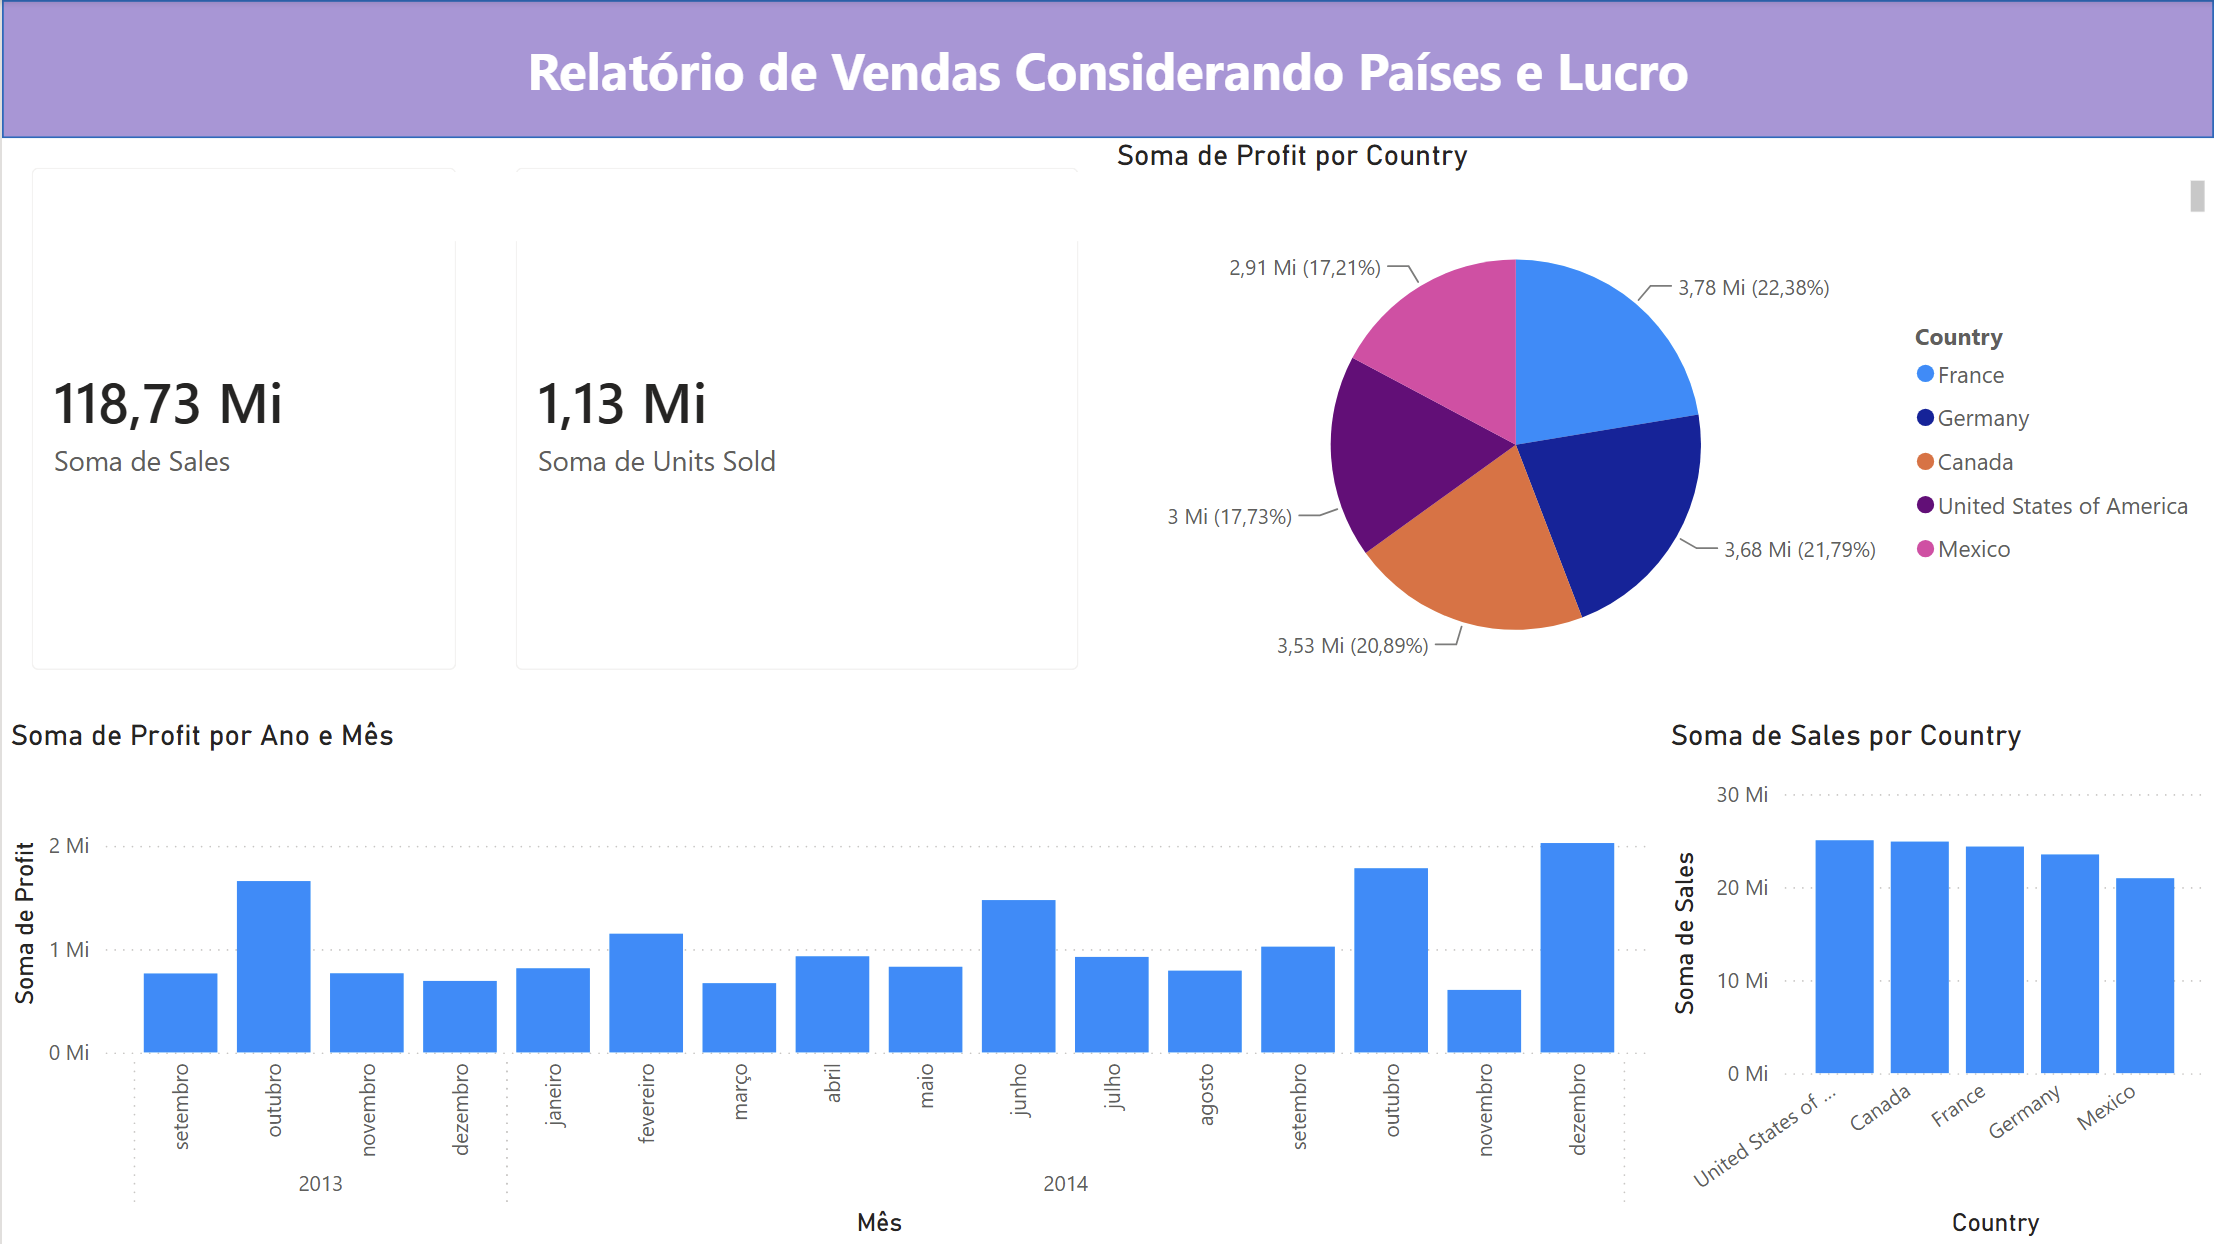

The dashboard page shown, as its layout file describes it:
{"tool":"powerbi","page":{"name":"Página 2","canvas":[1280,720],"ordinal":1},"visuals":[{"type":"cardVisual","fields":{"Data":["Sum(financials. Sales)"]},"box":[0,80,280,325],"z":0},{"type":"cardVisual","fields":{"Data":["Sum(financials.Units Sold)"]},"box":[280,80,360,325],"z":1000},{"type":"pieChart","fields":{"Category":["financials.Country"],"Y":["Sum(financials.Profit)"]},"box":[640,80,640,325],"z":2000},{"type":"columnChart","fields":{"Category":["financials.Date.Variation.Hierarquia de datas.Ano","financials.Date.Variation.Hierarquia de datas.Mês"],"Y":["Sum(financials.Profit)"]},"box":[0,415,960,305],"z":3000},{"type":"columnChart","fields":{"Category":["financials.Country"],"Y":["Sum(financials. Sales)"]},"box":[960,415,320,305],"z":4000},{"type":"textbox","box":[100,100,1180,40],"z":5000},{"type":"shape","box":[0,0,1280,80],"z":5001}]}

Visuals, with their boxes in screenshot pixels (x1, y1, x2, y2), scaled from the page's 1280x720 canvas onto the 2214x1244 screenshot:
cardVisual - Sum(financials. Sales): <bbox>0, 138, 484, 700</bbox>
cardVisual - Sum(financials.Units Sold): <bbox>484, 138, 1107, 700</bbox>
pieChart - financials.Country x Sum(financials.Profit): <bbox>1107, 138, 2213, 700</bbox>
columnChart - financials.Date.Variation.Hierarquia de datas.Ano x financials.Date.Variation.Hierarquia de datas.Mês: <bbox>0, 717, 1660, 1243</bbox>
columnChart - financials.Country x Sum(financials. Sales): <bbox>1660, 717, 2213, 1243</bbox>
textbox: <bbox>173, 173, 2213, 242</bbox>
shape: <bbox>0, 0, 2213, 138</bbox>
